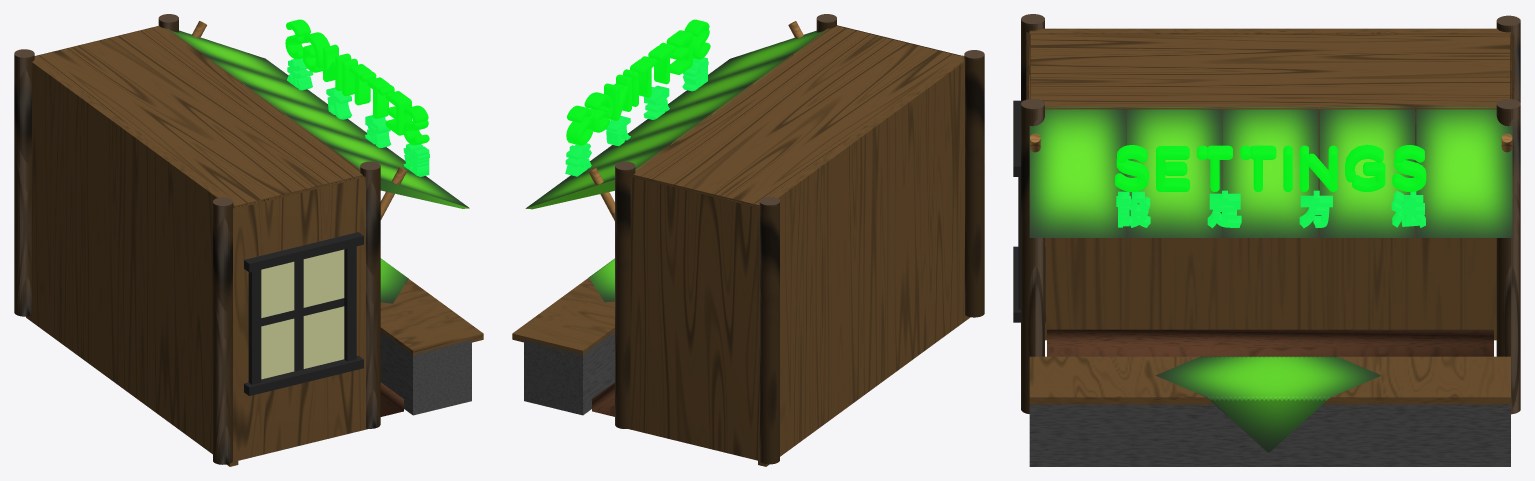
The model's file is settings.glb.
3 views of the same model, side by side, from view 1: azimuth 30°, elevation 25°; view 2: azimuth 150°, elevation 25°; view 3: azimuth 270°, elevation 25° (orthographic). The views are drawn at different scales.
Visible parts, largest first — view 1: back wall, Cube.001, Cube.007, Cube.013, English, Plane, Cylinder.005, Cylinder.004, Cube, Cylinder.002, Text.001, Cube.006 (+12 smaller); view 2: back wall, Cube.009, Cube.001, English, Cylinder.004, Plane, Cylinder.005, Cube, Cylinder, Text.001, Cube.004, Cube.005 (+5 smaller); view 3: back wall, Cube.001, Plane, Cube, Base.004, Cube.004, Cube.006, Plane.001, Cube.005, English, Cube.002, Cube.003 (+7 smaller).
Boxes of the visible parts, <box> form: back wall: <box>26,56,238,466</box>; Cube.001: <box>35,26,362,206</box>; Cube.007: <box>232,176,368,462</box>; Cube.013: <box>261,249,344,379</box>; English: <box>285,19,429,145</box>; Plane: <box>380,331,471,415</box>; Cylinder.005: <box>213,197,233,464</box>; Cylinder.004: <box>14,49,34,316</box>; Cube: <box>380,279,483,356</box>; Cylinder.002: <box>360,161,380,428</box>; Text.001: <box>287,58,429,176</box>; Cube.006: <box>324,144,469,208</box>; back wall: <box>758,55,970,466</box>; Cube.009: <box>629,176,759,460</box>; Cube.001: <box>633,26,960,205</box>; English: <box>566,19,710,145</box>; Cylinder.004: <box>759,197,779,464</box>; Plane: <box>524,331,614,415</box>; Cylinder.005: <box>964,50,984,317</box>; Cube: <box>512,277,614,356</box>; Cylinder: <box>615,161,635,428</box>; Text.001: <box>565,57,708,176</box>; Cube.004: <box>525,145,670,209</box>; Cube.005: <box>608,84,752,148</box>; back wall: <box>1029,28,1510,340</box>; Cube.001: <box>1030,34,1510,122</box>; Plane: <box>1029,404,1510,466</box>; Cube: <box>1029,356,1510,404</box>; Base.004: <box>1047,329,1493,356</box>; Cube.004: <box>1416,107,1512,237</box>; Cube.006: <box>1029,107,1125,237</box>; Plane.001: <box>1155,356,1381,453</box>; Cube.005: <box>1222,107,1318,237</box>; English: <box>1115,144,1426,191</box>; Cube.002: <box>1319,107,1415,237</box>; Cube.003: <box>1126,107,1221,237</box>.
Bounding box in the file's own units: 4.57 × 4.4 × 6.33.
11 materials, 7 textured.
